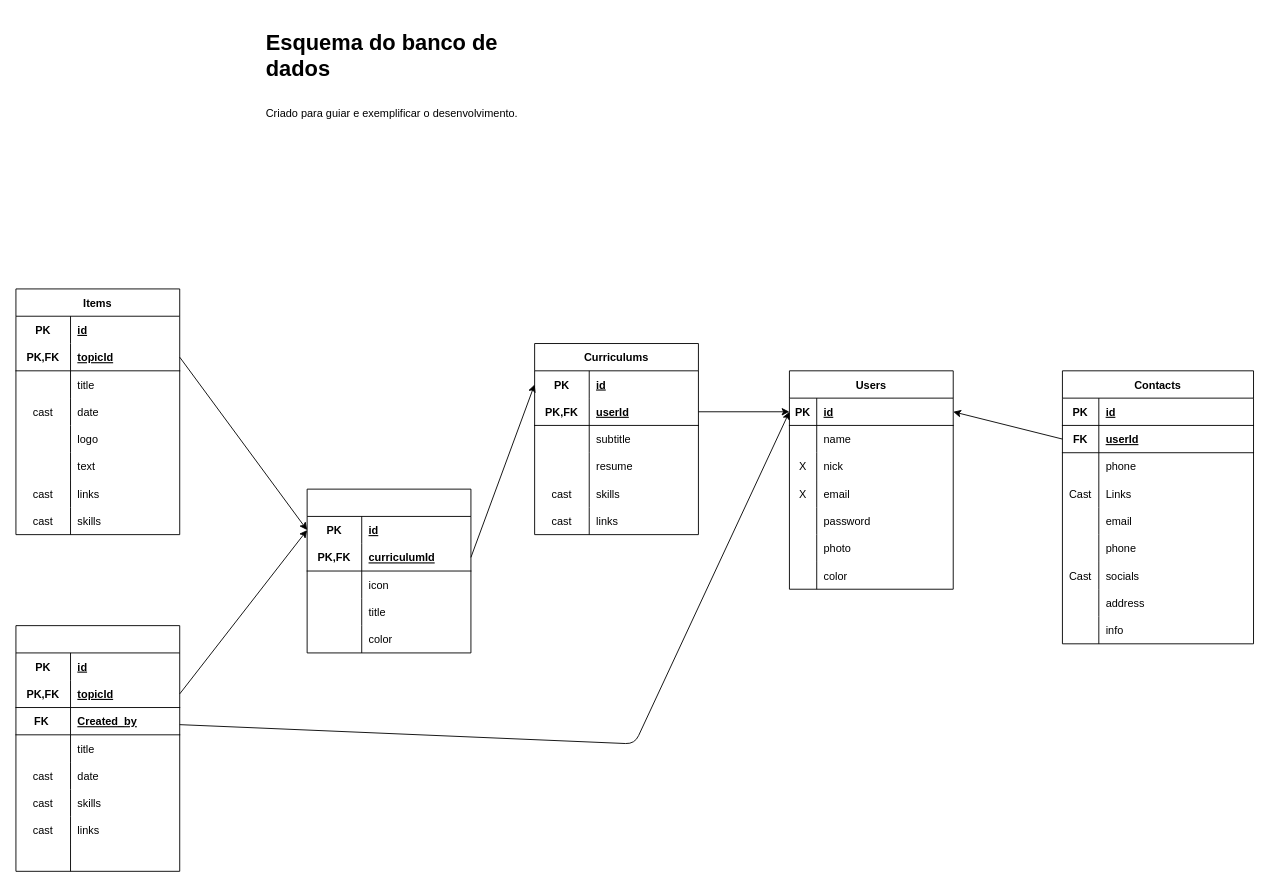
Image size: 1269x887. Some labels were removed from this diagram. The shapes that lost their labels are listed below. From the top down, each one's box as (x1, y1, x2, y2) in pixels, then its label:
(306, 488, 471, 653): Topics
(15, 625, 180, 871): Projects
